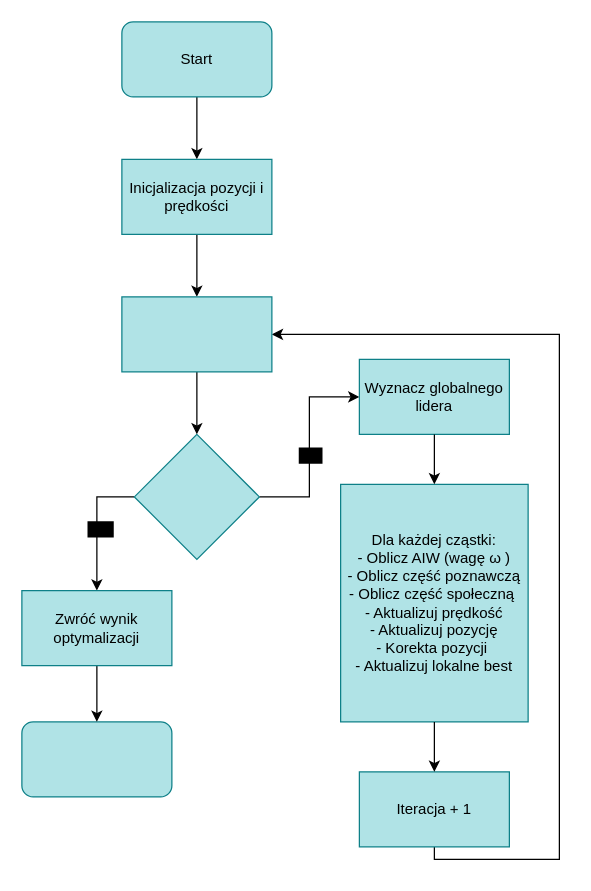
Some shapes in this 591 by 891 pixel diagram are drawn without their labels. The shapes that lost their labels are listed below. From the top down, each one's centre as x and y in pixels, then its label:
point 196,334: Ocena populacji (fitness)
point 196,496: Czy iteracja = MAX_ITER?
point 96,759: Stop
